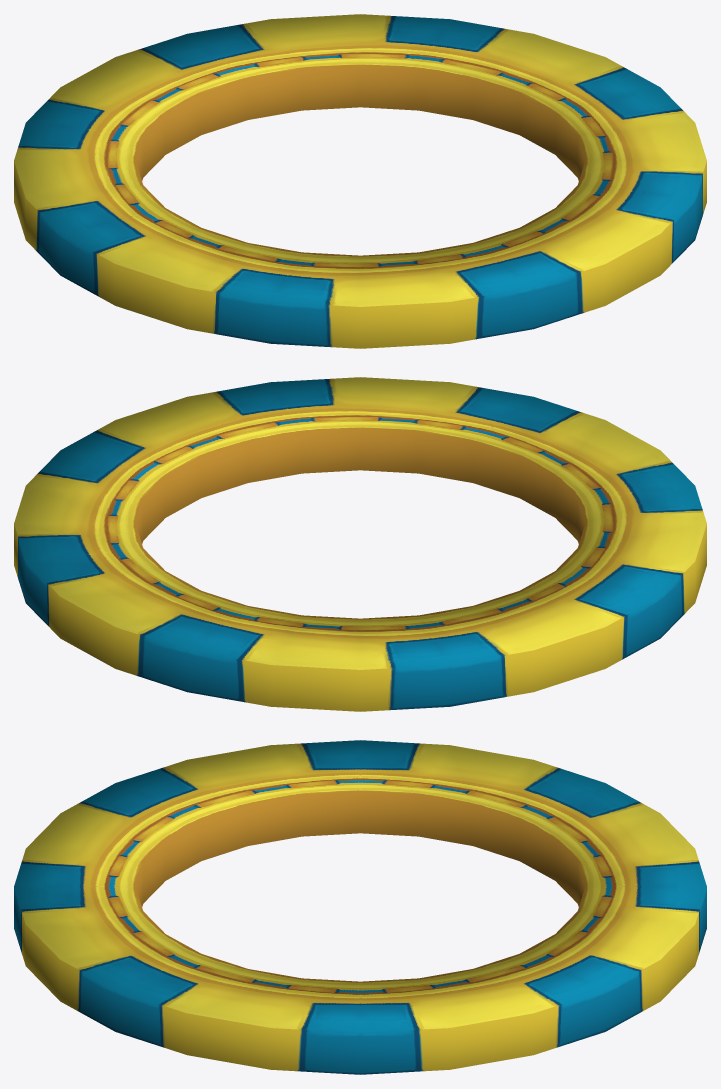
The model's file is xiaoxiong02_004.FBX.
The picture shows the model from 3 angles, top to bottom: view 1: azimuth 30°, elevation 25°; view 2: azimuth 150°, elevation 25°; view 3: azimuth 270°, elevation 25°; orthographic projection.
Parts seen in each view (by area): view 1: xiaoxiong02_004; view 2: xiaoxiong02_004; view 3: xiaoxiong02_004.
Boxes of the visible parts, <box> form: xiaoxiong02_004: <box>14,14,706,348</box>; xiaoxiong02_004: <box>14,377,706,711</box>; xiaoxiong02_004: <box>14,740,706,1074</box>.
Size of the model in its own units: 3957 by 3957 by 263.
